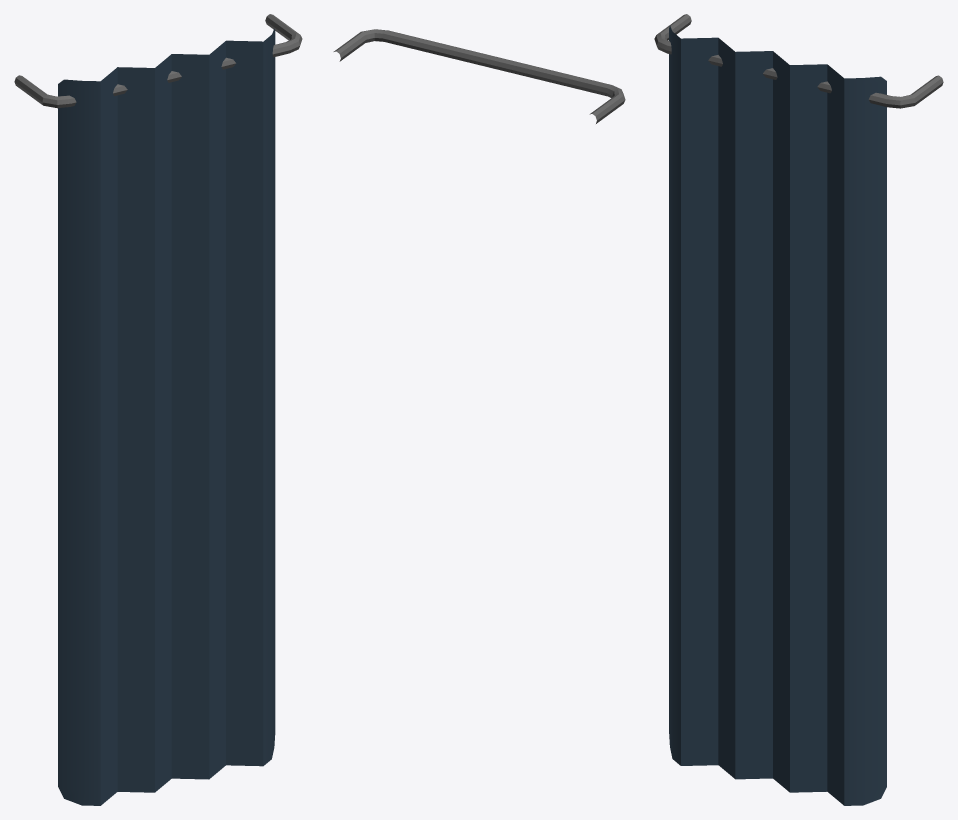
File: Curtains_Single.gltf
3 renders of one model, left to right at view 1: azimuth 30°, elevation 25°; view 2: azimuth 150°, elevation 25°; view 3: azimuth 330°, elevation 25°, orthographic. The views are drawn at different scales.
Visible parts, largest first — view 1: Curtains_Single; view 2: Curtains_Single; view 3: Curtains_Single.
Boxes of the visible parts, left/top/right/bottom form: Curtains_Single: left=14, top=14, right=302, bottom=805; Curtains_Single: left=333, top=29, right=625, bottom=123; Curtains_Single: left=654, top=14, right=943, bottom=805.
Size of the model in its own units: 1.63 by 4.34 by 0.4765.
